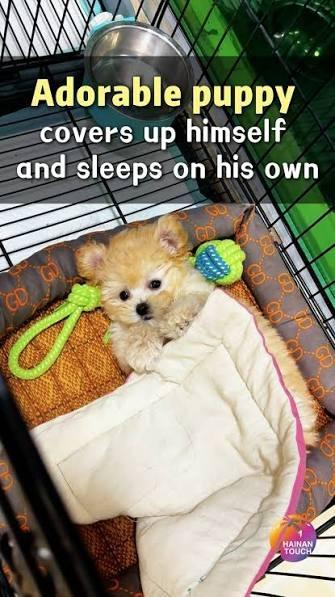puppy-dog: (75, 216, 321, 445)
